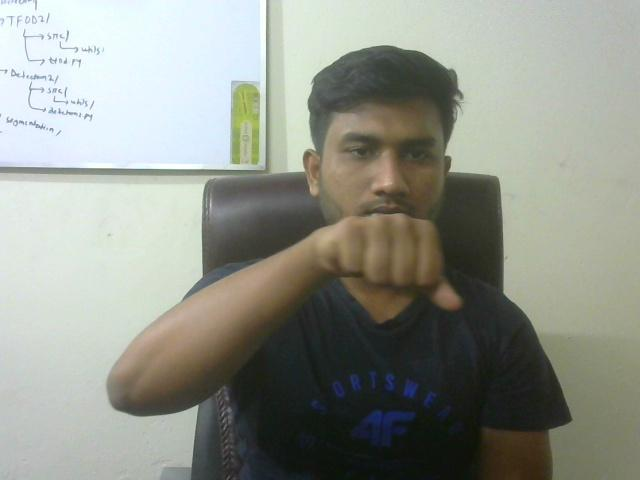Yes: (281, 194, 478, 333)
